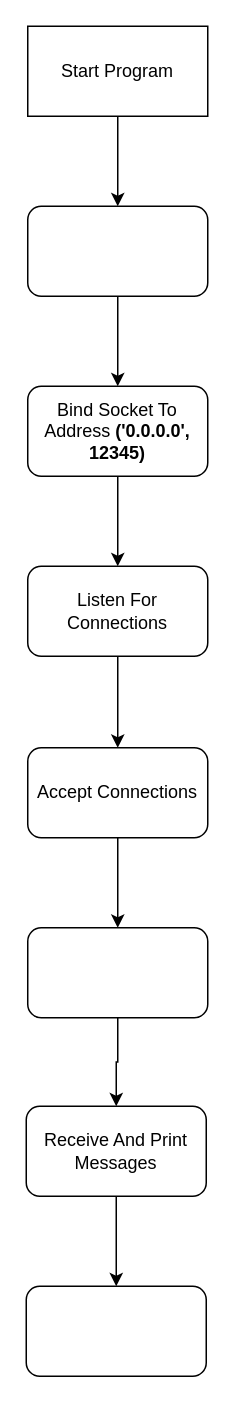
The diagram is 234 pixels wide and 1403 high, and some of its shapes have lost their labels. The shapes that lost their labels are listed below. From the top down, each one's box as (x1, y1, x2, y2) in pixels, then its label:
(26, 205, 208, 296): Initializing Server Socket (AF_INET, SOCK_STREAM)
(26, 926, 208, 1018): Handle Client In A New Thread
(25, 1285, 206, 1376): Continue Handling Connections
